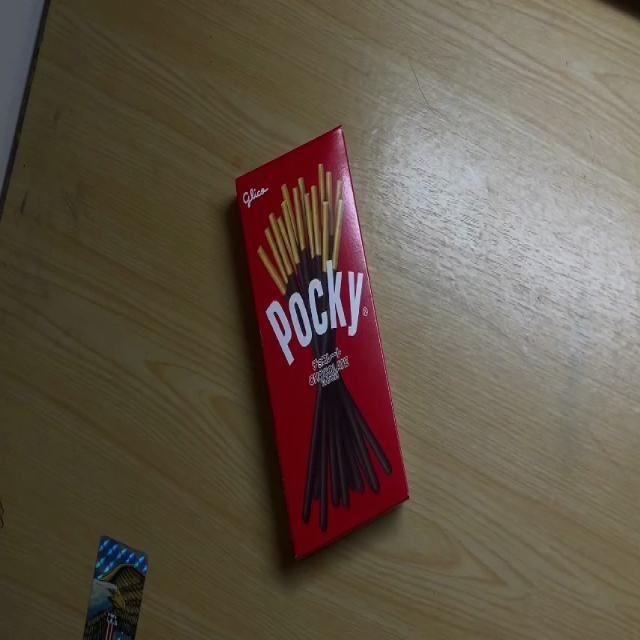Pocky: (232, 123, 413, 565)
